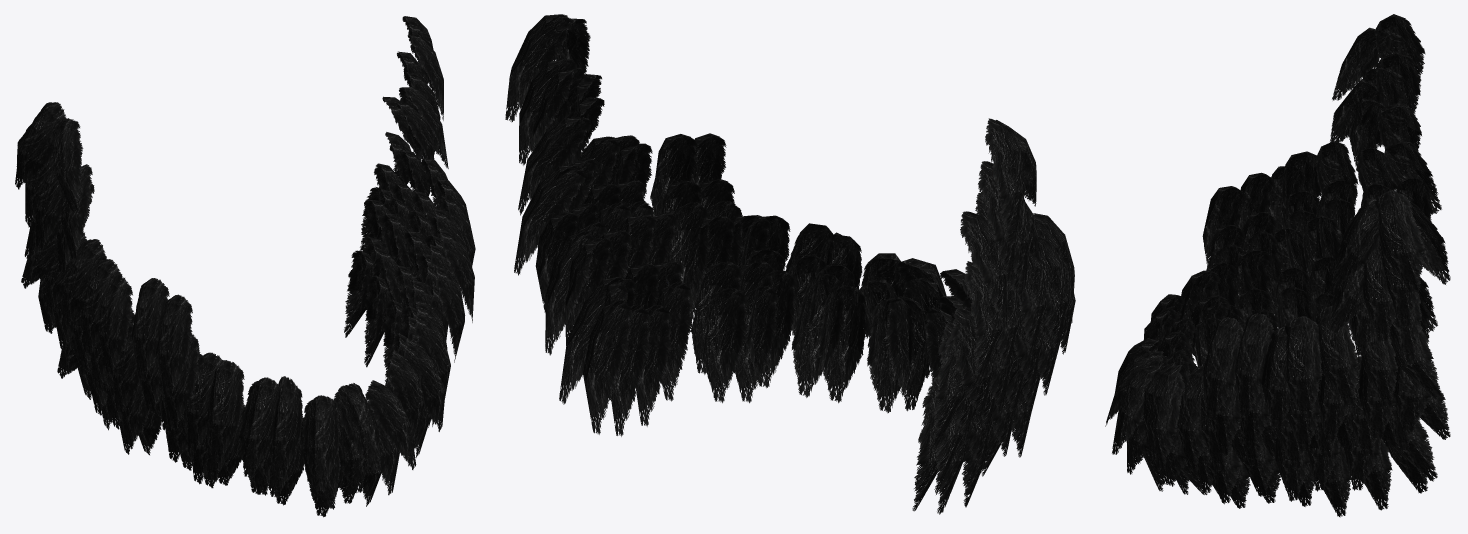
The model's file is mhw_wdg_scruffy_beard.glb.
3 renders of one model, left to right at view 1: azimuth 30°, elevation 25°; view 2: azimuth 150°, elevation 25°; view 3: azimuth 270°, elevation 25°, orthographic. The views are drawn at different scales.
Visible parts, largest first — view 1: mhw_wdg_scruffy_beard; view 2: mhw_wdg_scruffy_beard; view 3: mhw_wdg_scruffy_beard.
Part boxes in pixels (x1,y1,x2,y2): mhw_wdg_scruffy_beard: (15,16,475,517); mhw_wdg_scruffy_beard: (505,14,1075,514); mhw_wdg_scruffy_beard: (1105,14,1450,517).
Size of the model in its own units: 0.1698 by 0.1472 by 0.122.
Materials: 1 (1 with a texture image).
